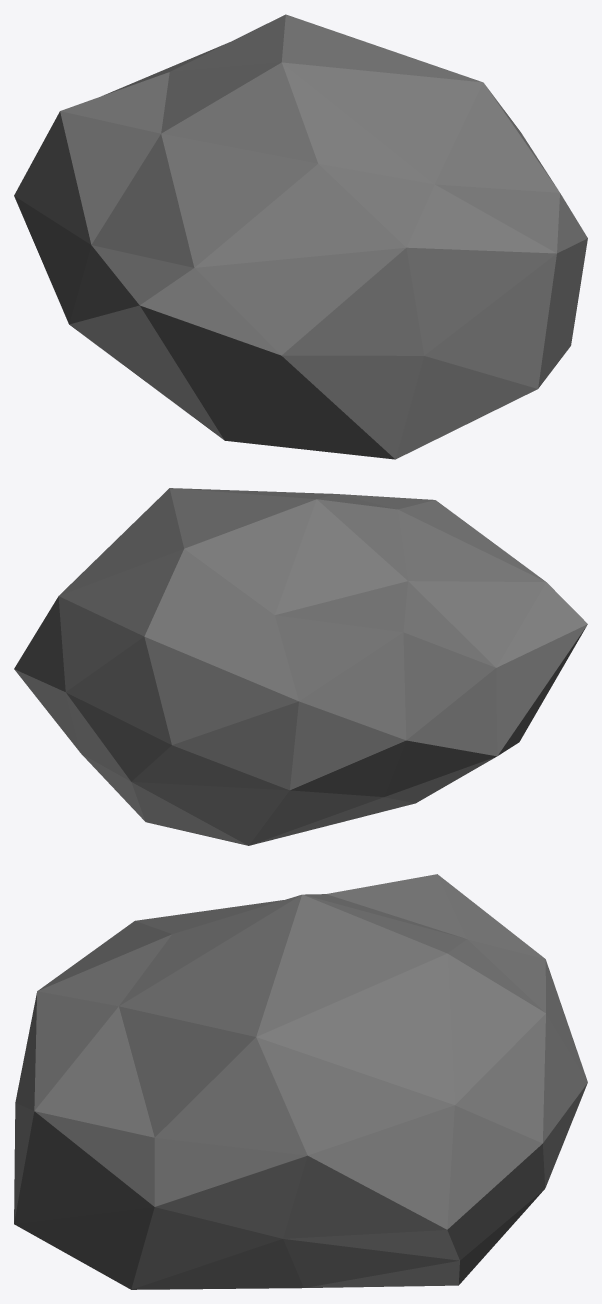
Rendered from Stone.fbx.
3 renders of one model, top to bottom at view 1: azimuth 30°, elevation 25°; view 2: azimuth 150°, elevation 25°; view 3: azimuth 270°, elevation 25°, orthographic. The views are drawn at different scales.
Parts seen in each view (by area): view 1: Stone; view 2: Stone; view 3: Stone.
Part boxes in pixels (x1,y1,x2,y2): Stone: (14, 14, 587, 459); Stone: (14, 488, 587, 845); Stone: (14, 874, 587, 1289).
Size of the model in its own units: 75.73 by 48.82 by 75.8.
1 material, 1 textured.
